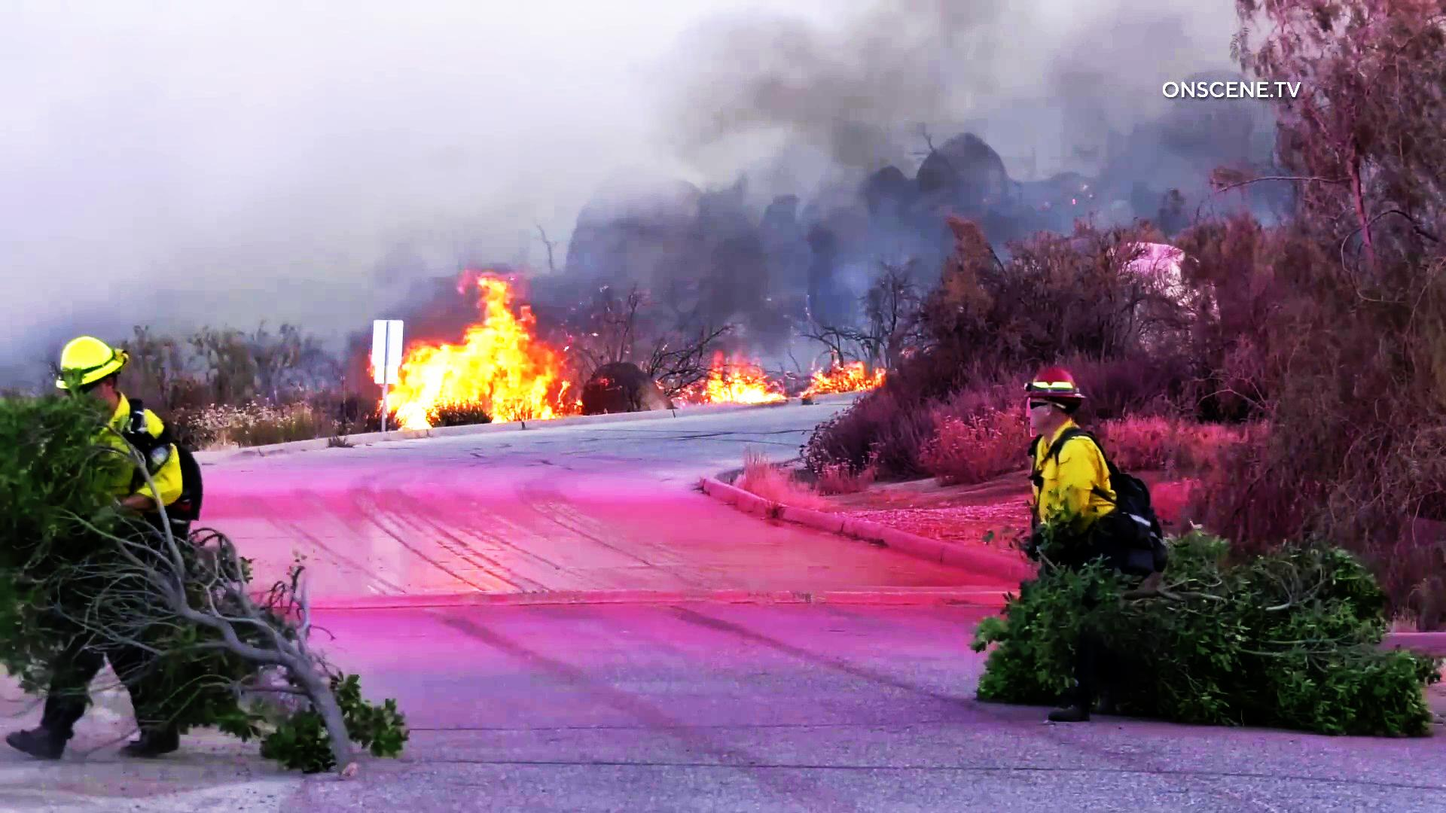fire: (355, 281, 563, 437), (688, 358, 779, 416)
smoke: (691, 10, 862, 333)
